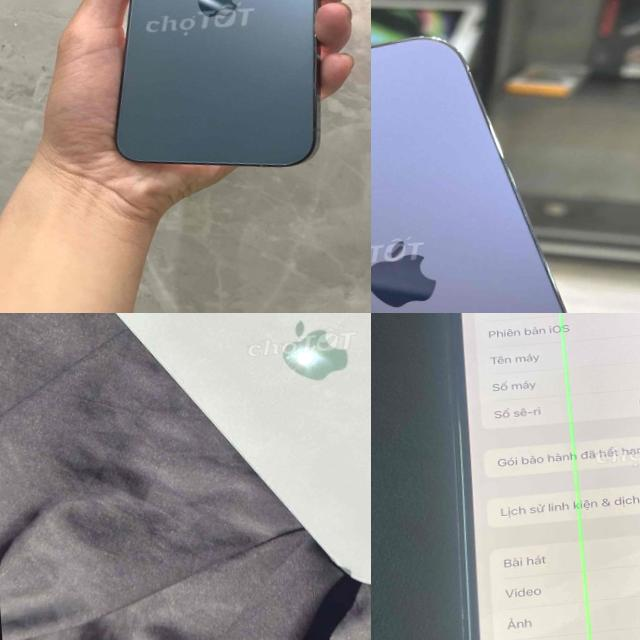gen_12_13: (89, 0, 358, 183)
gen_14: (371, 23, 623, 313)
gen_15: (24, 313, 371, 601)
gen_x_xs: (439, 313, 640, 640)
screen_defect: (544, 313, 609, 640)
